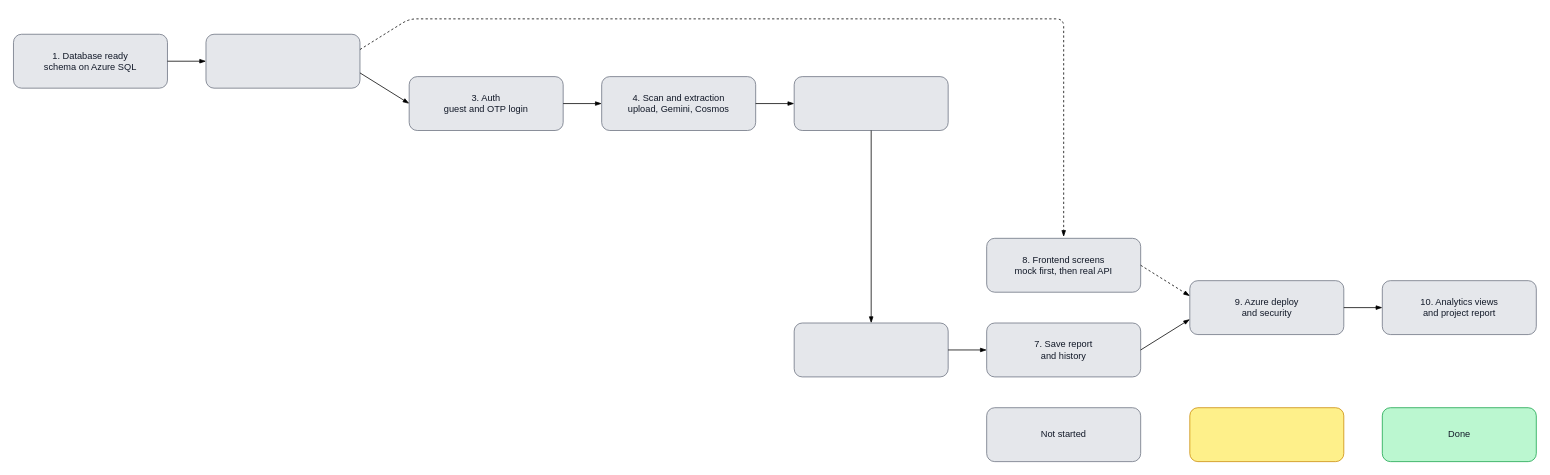
This 1550x475 diagram has some shape labels left out. Each missing label, with the centre of its shape:
"2. Backend skeleton Flask, config, health" belongs at [282,60].
"5. Ingredient lookup and seed data" belongs at [870,103].
"6. Personalisation and guidance" belongs at [870,349].
"In progress" belongs at [1266,434].
